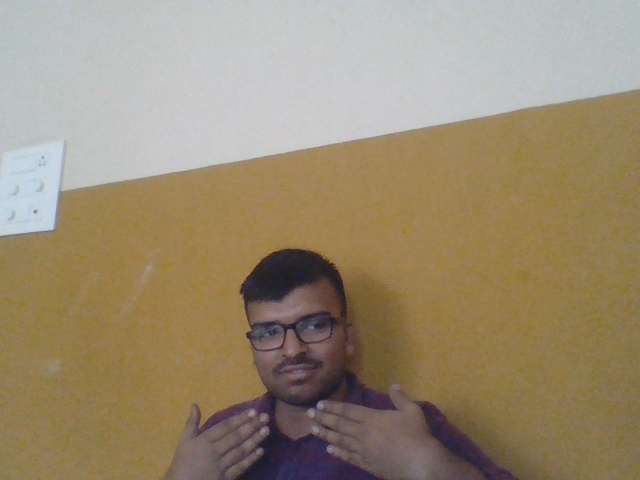Thank You: (162, 383, 457, 480)
